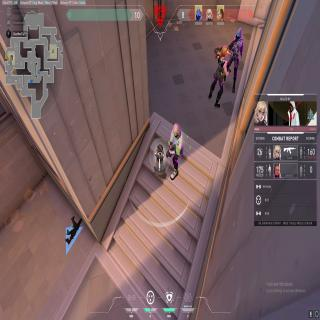ENEMY-BODY: (209, 42, 229, 109), (167, 121, 186, 181), (229, 24, 243, 94)
ENEMY-HEAD: (172, 122, 180, 138), (220, 45, 227, 59), (236, 25, 242, 40)
